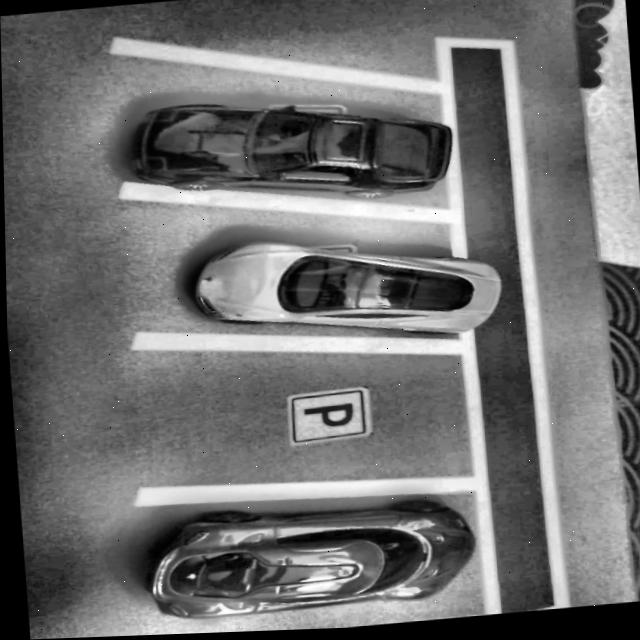car: (124, 83, 455, 221), (141, 492, 476, 625), (188, 224, 503, 359)
